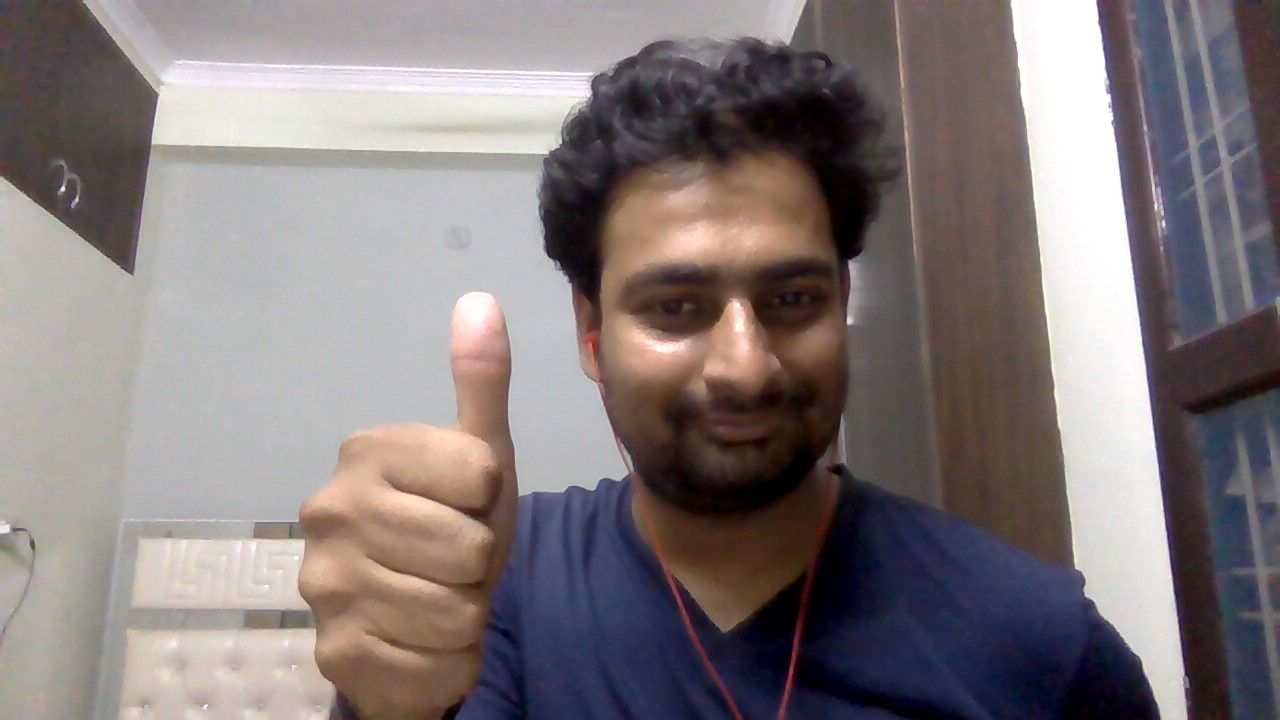Save: (277, 277, 548, 715)
